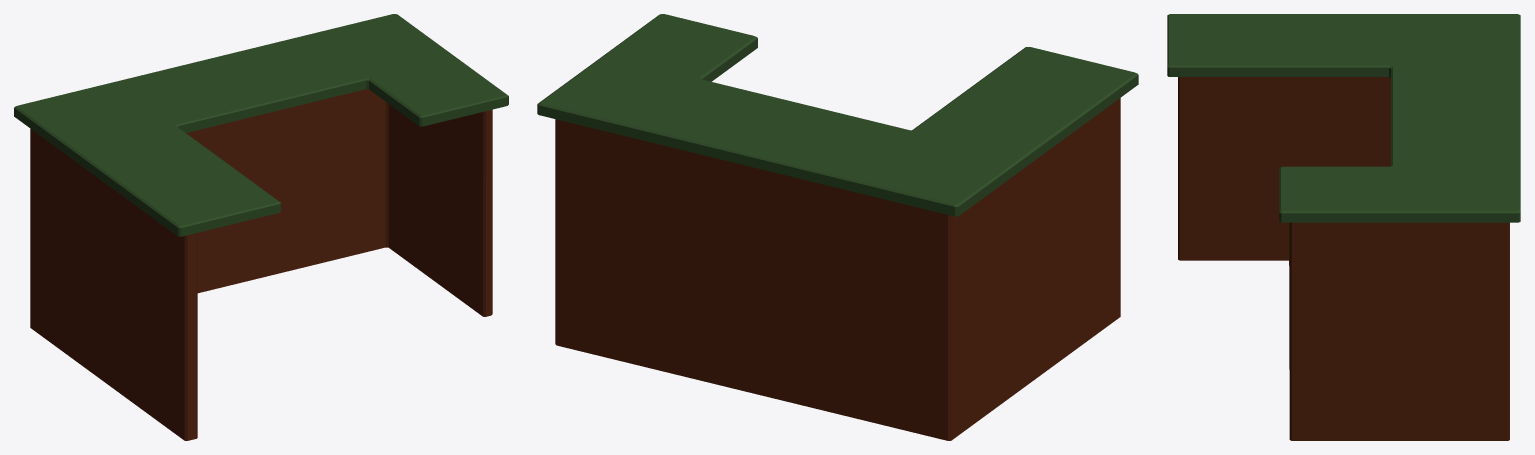
Rendered from Desk.glb.
The picture shows the model from 3 angles, left to right: view 1: azimuth 30°, elevation 25°; view 2: azimuth 150°, elevation 25°; view 3: azimuth 270°, elevation 25°; orthographic projection. The views are drawn at different scales.
Parts seen in each view (by area): view 1: Desk; view 2: Desk; view 3: Desk.
Boxes of the visible parts, x1,y1,x2,y2 form: Desk: (14, 14, 508, 440); Desk: (537, 14, 1138, 440); Desk: (1167, 14, 1520, 440).
Bounding box in the file's own units: 2 × 1.1 × 1.5.
